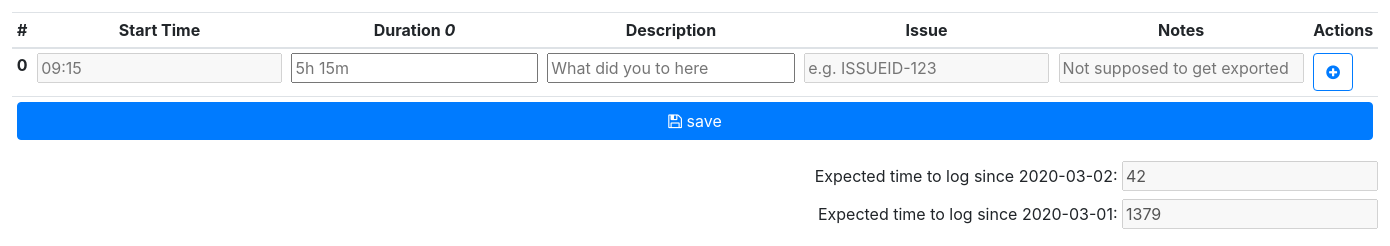
TimelogDayView › save › should show an errormessage if an error occurs while saving
The width and height of the screenshot is (1390, 246).
Check: the column heading titled "TimeLog 0" is shown, box [12,48,32,97]
Click the button "save".
click(695, 121)  # box [17,102,1373,140]
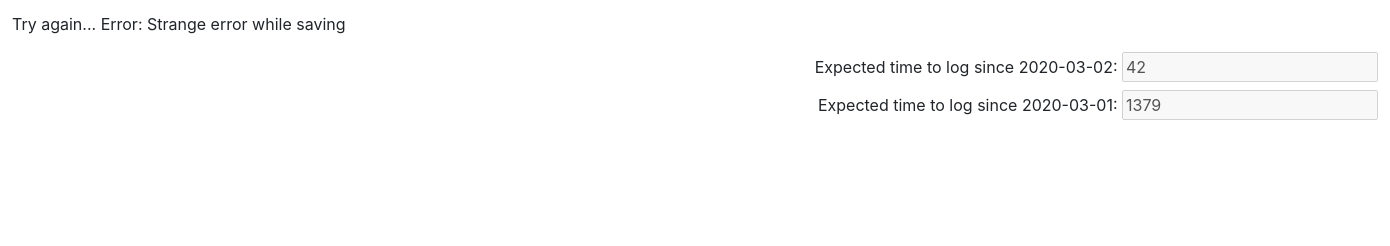
Check: the text "Try again... Error: Strange error while saving" is shown, box [12,14,346,34]
